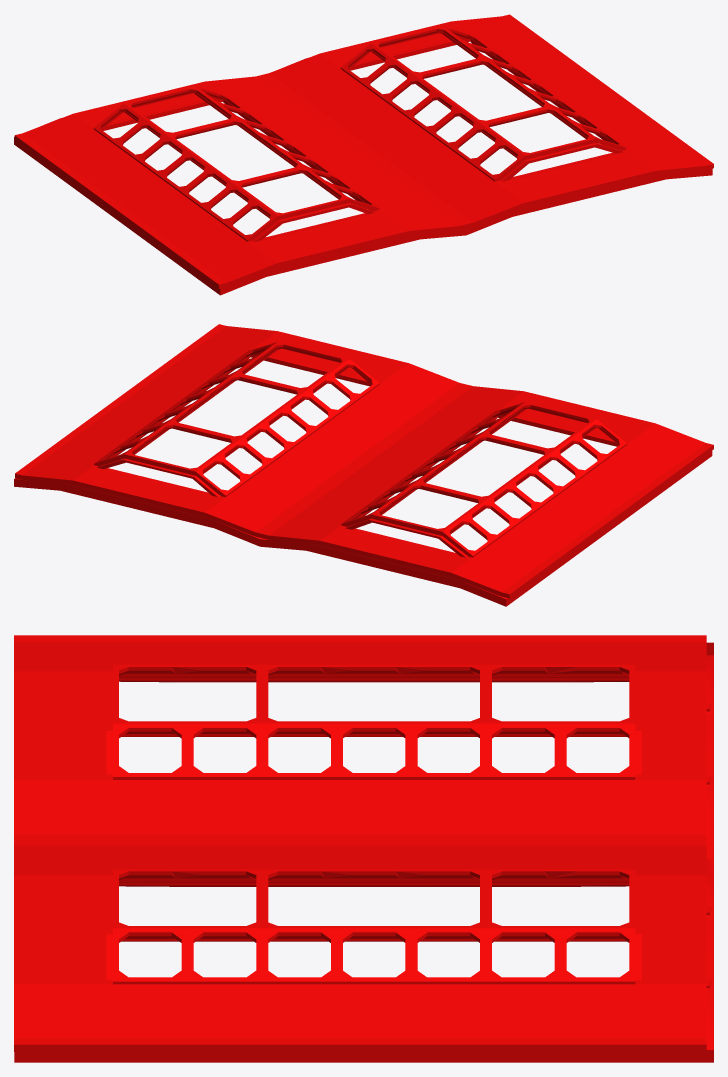
The model's file is stage_01_01_loof_01.FBX.
3 renders of one model, top to bottom at view 1: azimuth 30°, elevation 25°; view 2: azimuth 150°, elevation 25°; view 3: azimuth 270°, elevation 25°, orthographic. The views are drawn at different scales.
Parts seen in each view (by area): view 1: Object295; view 2: Object295; view 3: Object295.
Boxes of the visible parts, <box> form: Object295: <box>14,14,713,295</box>; Object295: <box>14,324,713,606</box>; Object295: <box>14,635,713,1062</box>.
Size of the model in its own units: 4166 by 296 by 3008.
